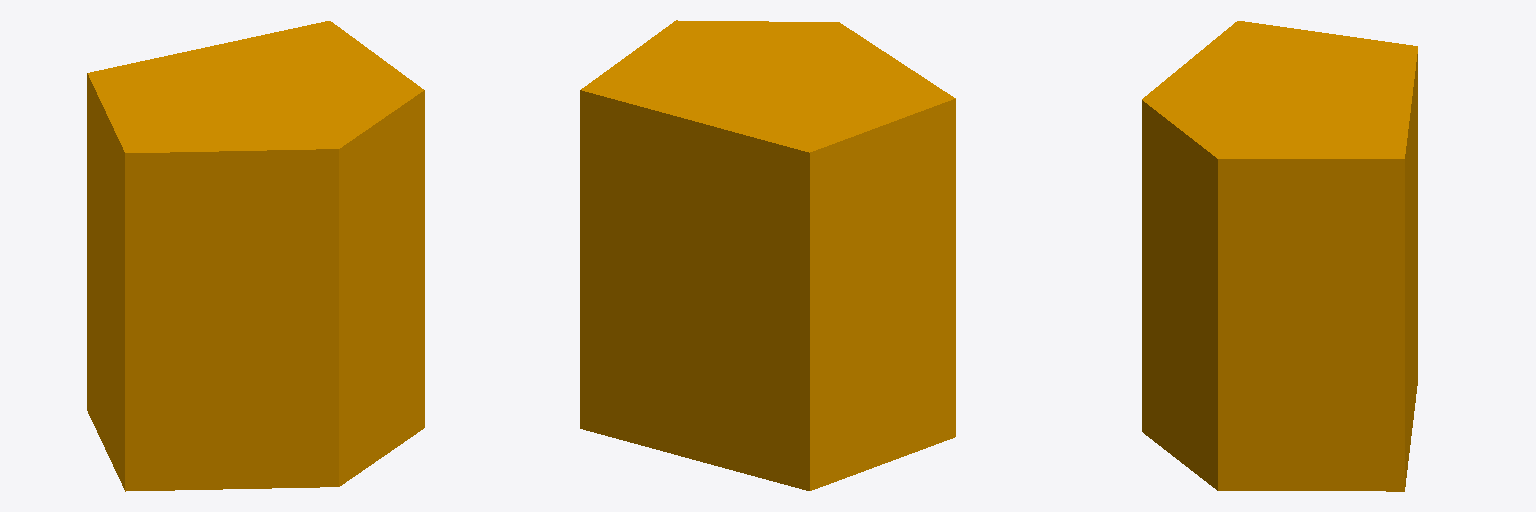
URDF robot description (object):
<?xml version="1.0"?>
<robot name="object">
  <link name="object">
    <visual>
      <origin xyz="0 0 0"/>
      <geometry>
        <mesh filename="meshes/generated/col_112.obj" scale="0.03 0.03 0.03"/>
      </geometry>
    </visual>
    <collision>
      <origin xyz="0 0 0"/>
      <geometry>
        <mesh filename="meshes/generated/col_112.obj" scale="0.03 0.03 0.03"/>
      </geometry>
    </collision>
    <inertial>
      <density value="1000.0"/>
    </inertial>
  </link>
</robot>

--- Facts derived from the render (not from the file) ---
Views: 3 orthographic renders of the robot side by side, from view 1: azimuth 30°, elevation 25°; view 2: azimuth 150°, elevation 25°; view 3: azimuth 270°, elevation 25°.
Model object with 1 links and 0 joints (none), rooted at object, posed all joints at 0.
Visible links, largest first — view 1: object; view 2: object; view 3: object.
Boxes of the visible links, x1,y1,x2,y2 form: object: [87, 21, 424, 491]; object: [580, 20, 955, 490]; object: [1142, 21, 1417, 491].
Bounding box of the posed robot: 0.0538 × 0.0453 × 0.06 m (x, y, z).
1 mesh visuals loaded from 1 distinct referenced files (1 OBJ).
